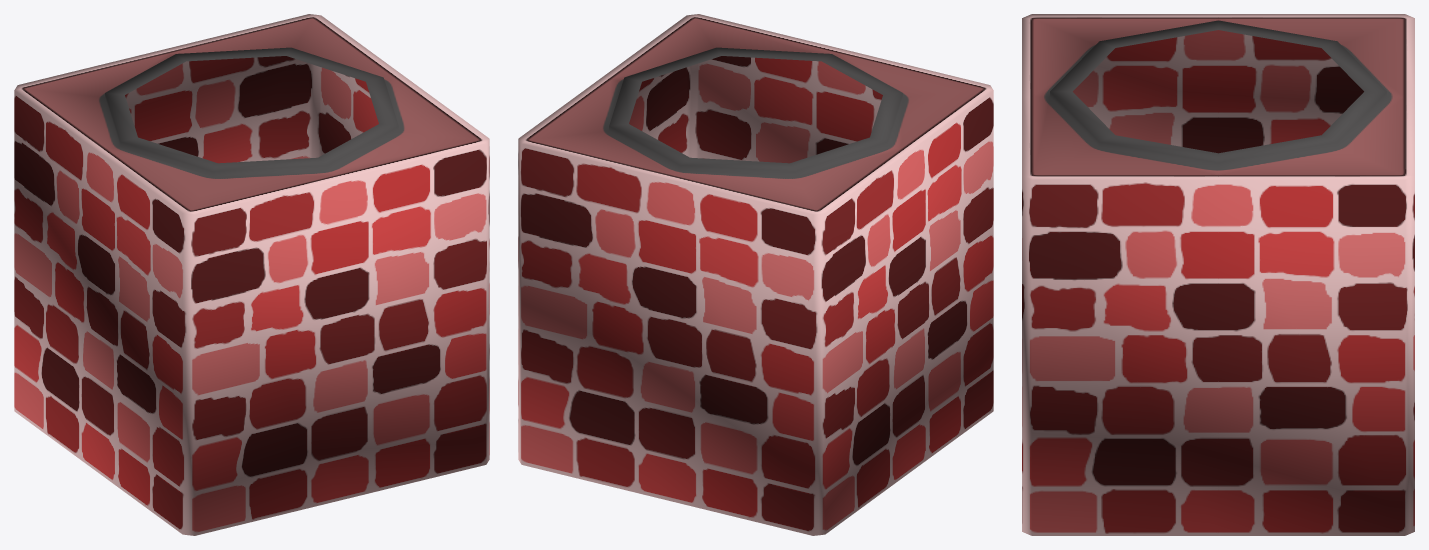
Rendered from button_block_-_block.obj.
3 renders of one model, left to right at view 1: azimuth 30°, elevation 25°; view 2: azimuth 150°, elevation 25°; view 3: azimuth 270°, elevation 25°, orthographic. The views are drawn at different scales.
Visible parts, largest first — view 1: Button_Block; view 2: Button_Block; view 3: Button_Block.
Part boxes in pixels (left/top/right/bottom): Button_Block: left=14, top=14, right=489, bottom=535; Button_Block: left=518, top=14, right=993, bottom=535; Button_Block: left=1022, top=14, right=1414, bottom=535.
Bounding box in the file's own units: 2 × 2.03 × 2.
1 material, 1 textured.
